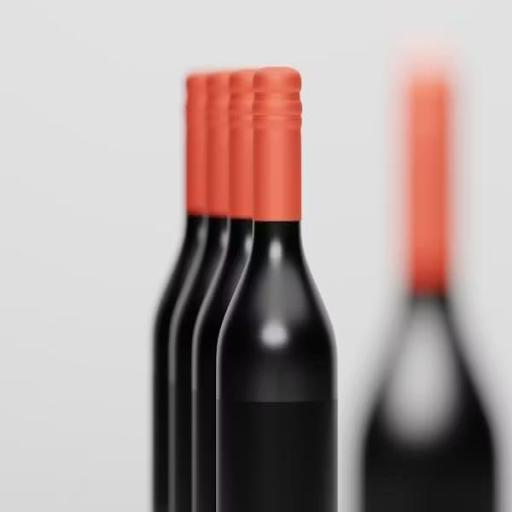bottle: (208, 61, 336, 512), (200, 52, 262, 512), (194, 61, 236, 512)
